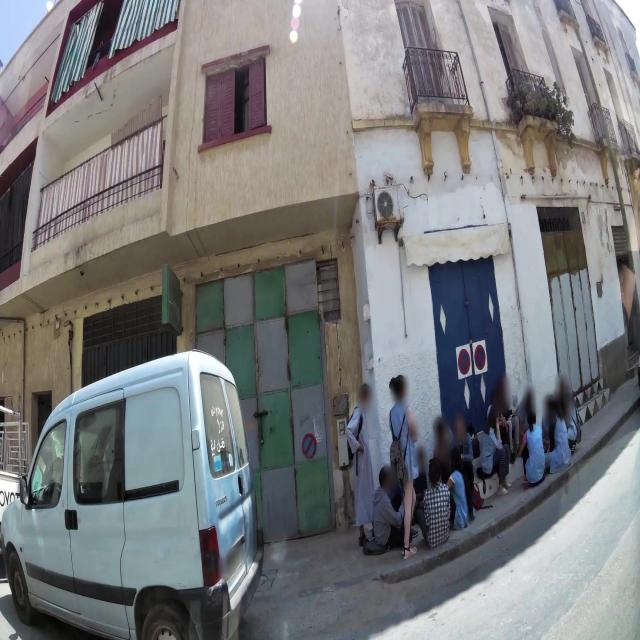forb_stopping: (458, 347, 471, 375), (475, 345, 485, 369)
forb_waiting: (302, 433, 317, 459)
